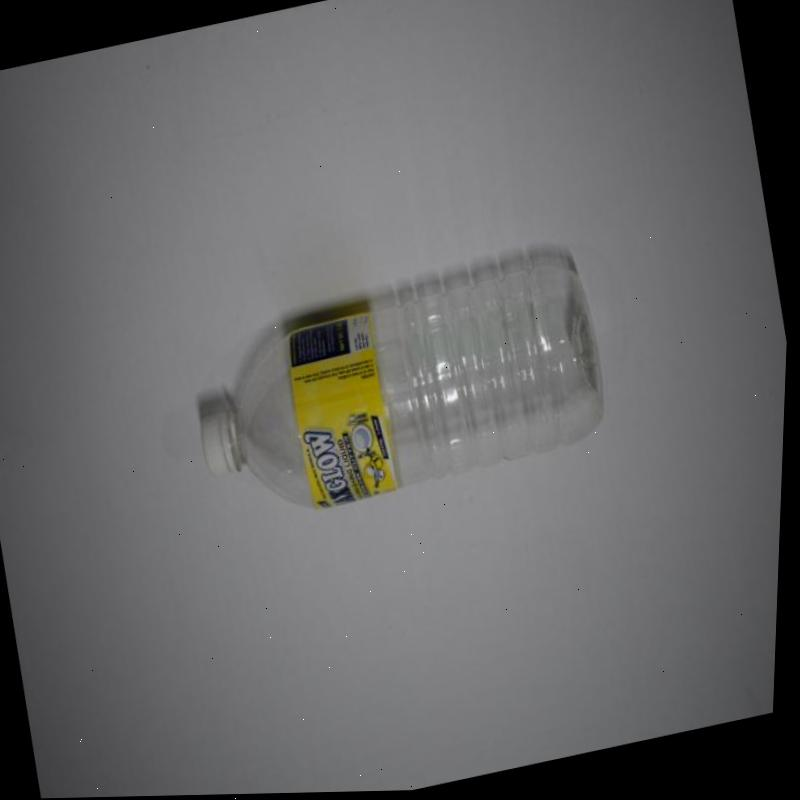botella: (182, 250, 623, 535)
